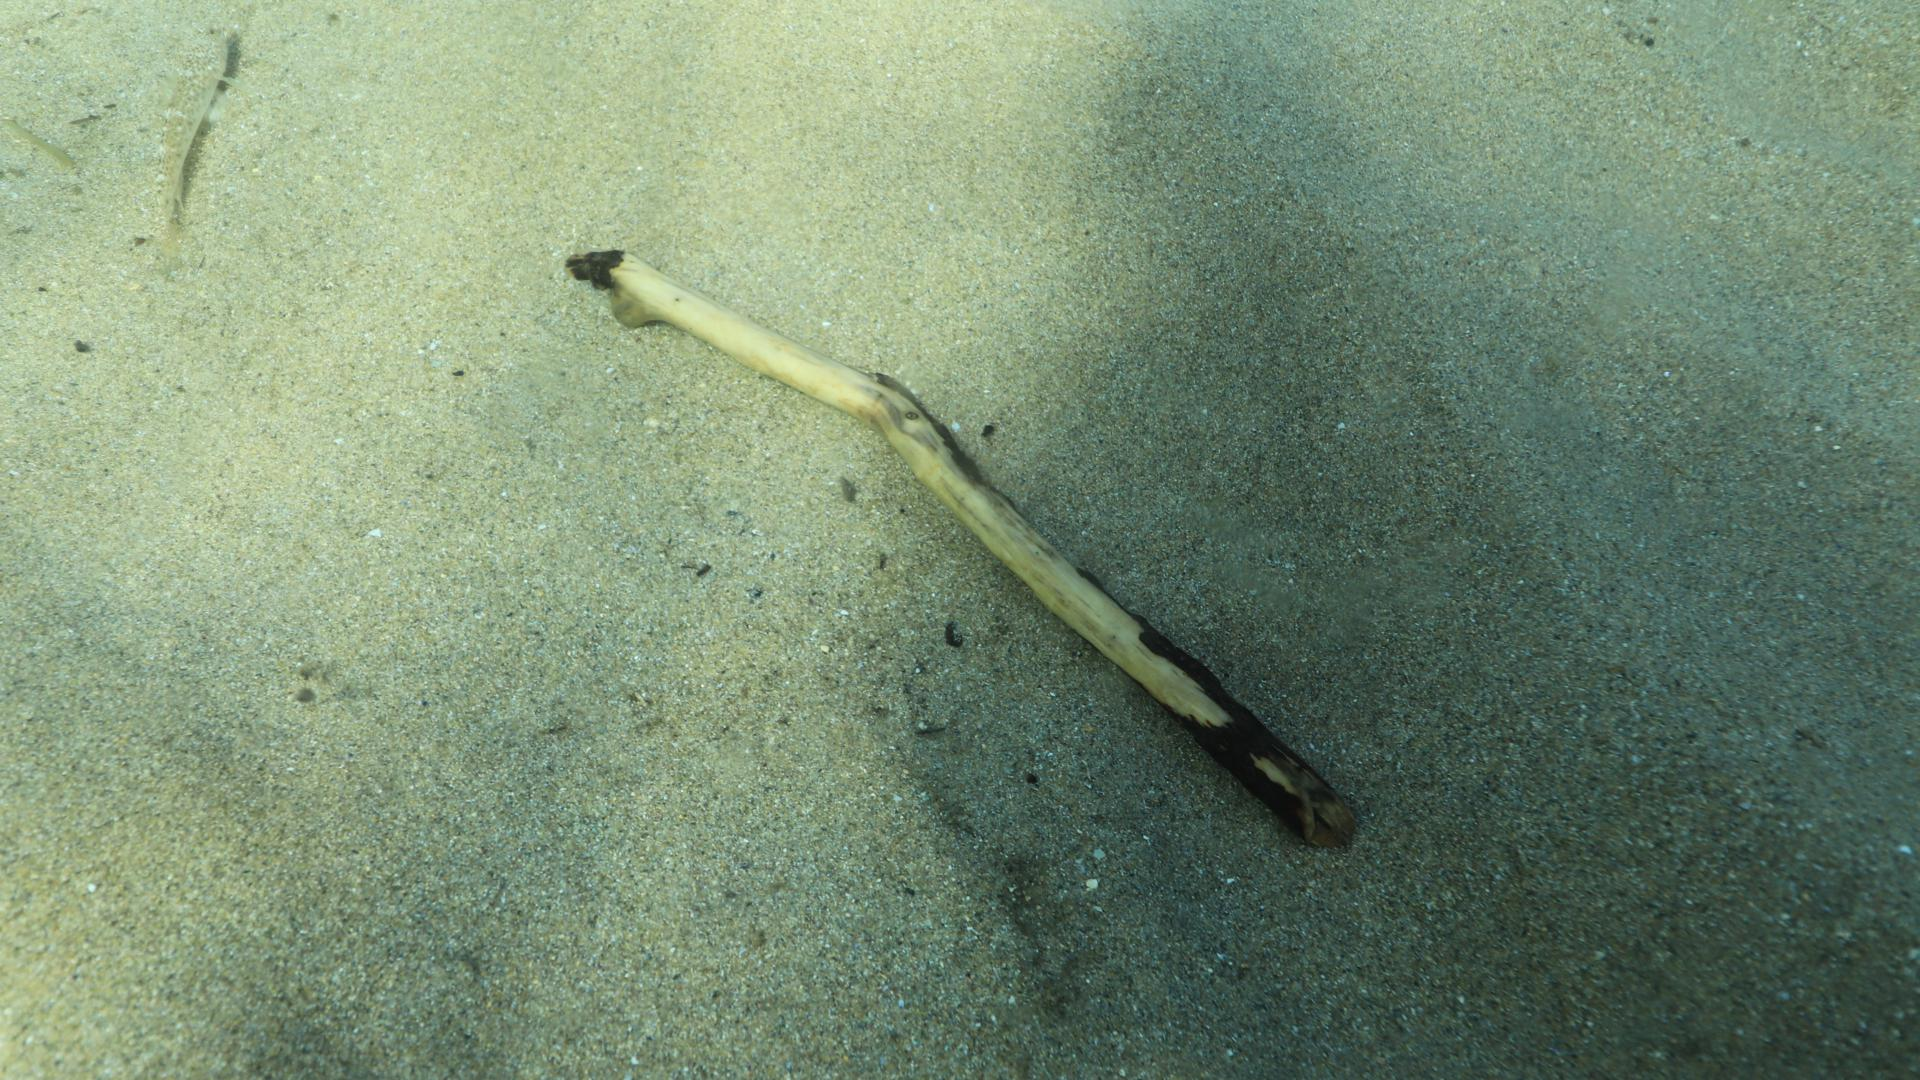wood: (566, 248, 1358, 852)
